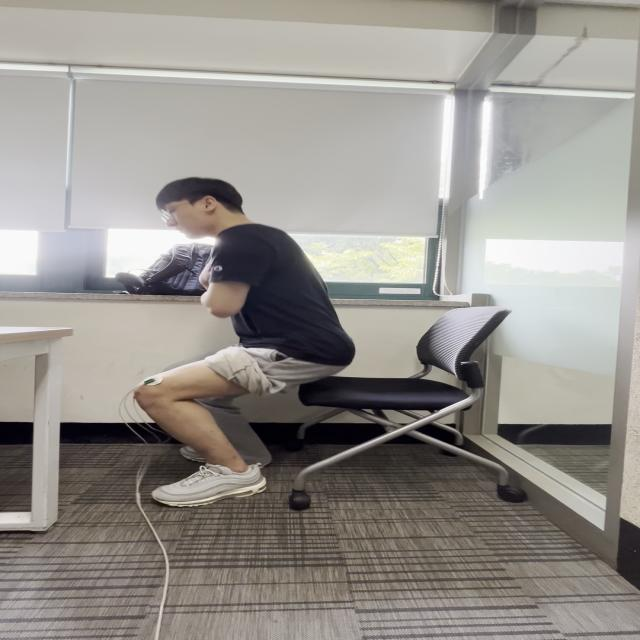stand: (124, 354, 357, 508), (209, 232, 355, 414), (137, 326, 360, 418)
